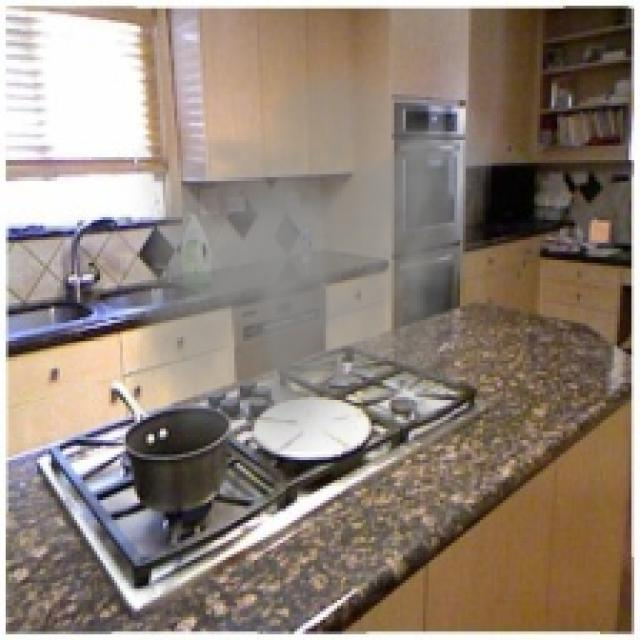smoke: (128, 46, 492, 451)
